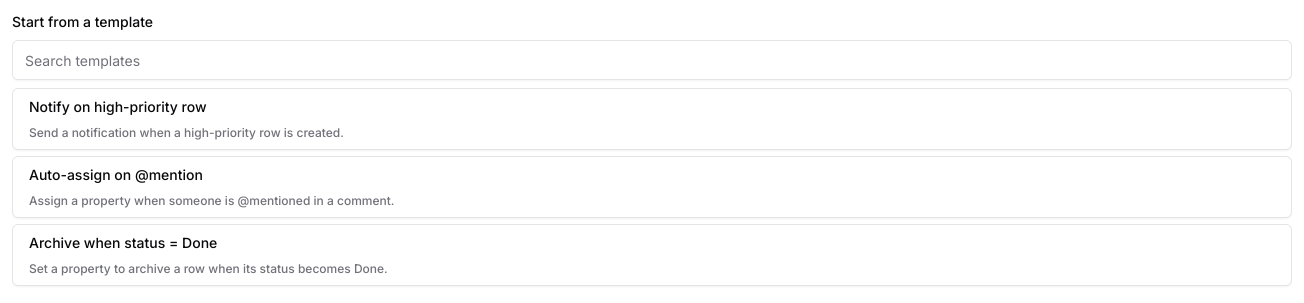
Test: shows an empty message when nothing matches
Type "zzzzz" into the field labelled "Search templates" at [652, 60], box x1=12 y1=40 x2=1292 y2=80
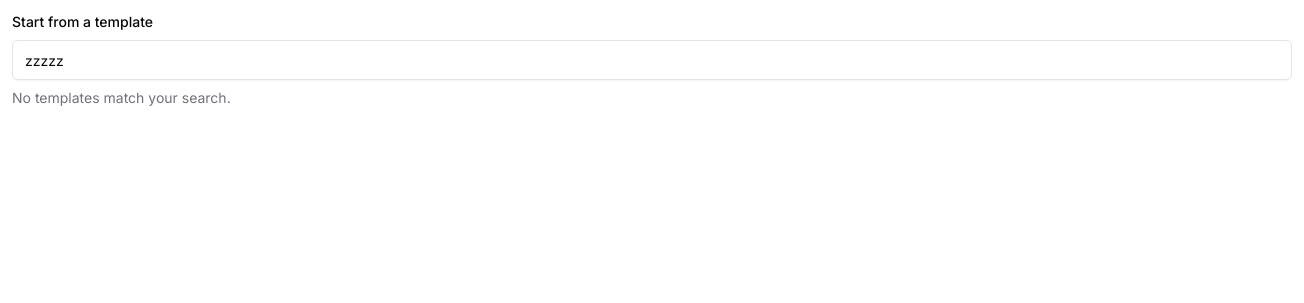
Expected: the text "No templates match your search." is shown, x1=12 y1=89 x2=231 y2=106
